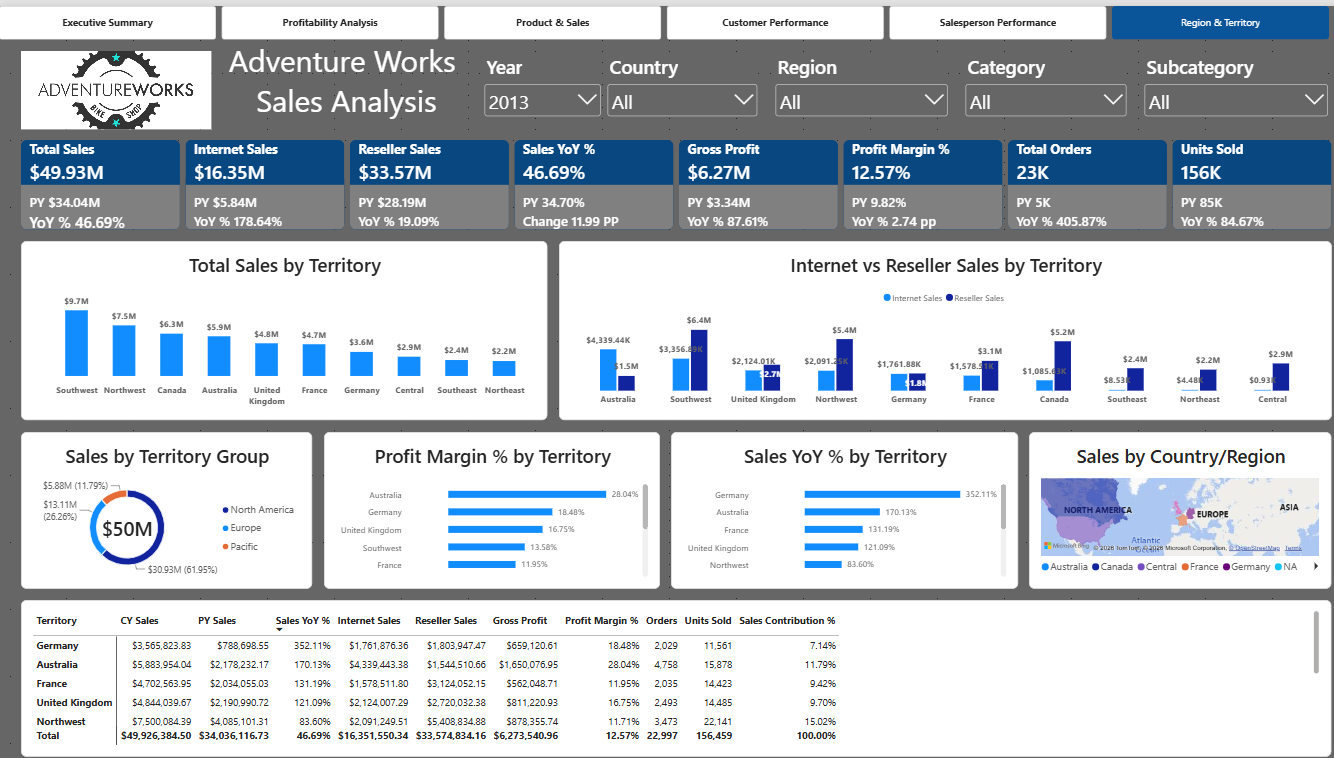

The dashboard page shown, as its layout file describes it:
{"tool":"powerbi","page":{"name":"Region & Territory","canvas":[1920,1080],"ordinal":5},"visuals":[{"type":"textbox","box":[304,48,384,128],"z":0},{"type":"image","box":[32,64,272,112],"z":1000},{"type":"cardVisual","fields":{"Data":["_Measures.Combined Sales","_Measures.Internet Sales","_Measures.Reseller Sales","_Measures.Combined Sales YoY %","_Measures.Combined Gross Profit","_Measures.Combined Profit Margin %","_Measures.Combined Orders","_Measures.Combined Units Sold"]},"box":[32,192,1872,128],"z":2000},{"type":"clusteredColumnChart","title":"Total Sales by Territory","fields":{"Category":["DimSalesTerritory.SalesTerritoryRegion"],"Y":["_Measures.Combined Sales"]},"box":[32,336,752,256],"z":3000},{"type":"slicer","fields":{"Values":["DimDate.CalendarYear"]},"box":[688,68.1,176,96],"z":4000},{"type":"donutChart","title":"Sales by Territory Group","fields":{"Category":["DimSalesTerritory.SalesTerritoryGroup"],"Y":["_Measures.Combined Sales"]},"box":[32,608,416,224],"z":5000},{"type":"slicer","fields":{"Values":["DimSalesTerritory.SalesTerritoryRegion"]},"box":[1104,68.1,256,96],"z":7000},{"type":"slicer","fields":{"Values":["DimProductCategory.EnglishProductCategoryName"]},"box":[1376,68.1,240,96],"z":8000},{"type":"slicer","fields":{"Values":["DimProductSubcategory.EnglishProductSubcategoryName"]},"box":[1632,68.1,272,96],"z":9000},{"type":"slicer","fields":{"Values":["DimSalesTerritory.SalesTerritoryCountry"]},"box":[864,68.1,224,96],"z":10000},{"type":"barChart","title":"Sales YoY % by Territory","fields":{"Category":["DimSalesTerritory.SalesTerritoryRegion"],"Y":["_Measures.Combined Sales YoY %"]},"box":[960,608,496,224],"z":11000},{"type":"filledMap","title":"Sales by Country/Region","fields":{"Category":["DimSalesTerritory.SalesTerritoryCountry"],"Series":["DimSalesTerritory.SalesTerritoryRegion"]},"box":[1472,608,432,224],"z":12000},{"type":"clusteredColumnChart","title":"Internet vs Reseller Sales by Territory","fields":{"Y":["_Measures.Internet Sales","_Measures.Reseller Sales"],"Category":["DimSalesTerritory.SalesTerritoryRegion"]},"box":[800,336,1104,256],"z":13000},{"type":"pivotTable","fields":{"Rows":["DimSalesTerritory.SalesTerritoryRegion"],"Values":["_Measures.Combined Sales","_Measures.PY Combined Sales","_Measures.Combined Sales YoY %","_Measures.Internet Sales","_Measures.Reseller Sales","_Measures.Combined Gross Profit","_Measures.Combined Profit Margin %","_Measures.Combined Orders","_Measures.Combined Units Sold","_Measures.Combined Product Sales Contribution %"]},"box":[32,848,1872,224],"z":14000},{"type":"pageNavigator","box":[0,0,1904,48],"z":15000},{"type":"barChart","title":"Profit Margin % by Territory","fields":{"Category":["DimSalesTerritory.SalesTerritoryRegion"],"Y":["_Measures.Combined Profit Margin %"]},"box":[464,608,480,224],"z":15001}]}

Visuals, with their boxes in screenshot pixels (x1, y1, x2, y2), scaled from the page's 1920x1080 canvas onto the 1334x758 screenshot:
textbox: <box>211,34,478,124</box>
image: <box>22,45,211,124</box>
cardVisual - _Measures.Combined Sales x _Measures.Internet Sales: <box>22,135,1323,225</box>
"Total Sales by Territory" clusteredColumnChart: <box>22,236,545,415</box>
slicer - DimDate.CalendarYear: <box>478,48,600,115</box>
"Sales by Territory Group" donutChart: <box>22,427,311,584</box>
slicer - DimSalesTerritory.SalesTerritoryRegion: <box>767,48,945,115</box>
slicer - DimProductCategory.EnglishProductCategoryName: <box>956,48,1123,115</box>
slicer - DimProductSubcategory.EnglishProductSubcategoryName: <box>1134,48,1323,115</box>
slicer - DimSalesTerritory.SalesTerritoryCountry: <box>600,48,756,115</box>
"Sales YoY % by Territory" barChart: <box>667,427,1012,584</box>
"Sales by Country/Region" filledMap: <box>1023,427,1323,584</box>
"Internet vs Reseller Sales by Territory" clusteredColumnChart: <box>556,236,1323,415</box>
pivotTable - DimSalesTerritory.SalesTerritoryRegion x _Measures.Combined Sales: <box>22,595,1323,752</box>
pageNavigator: <box>0,0,1323,34</box>
"Profit Margin % by Territory" barChart: <box>322,427,656,584</box>
